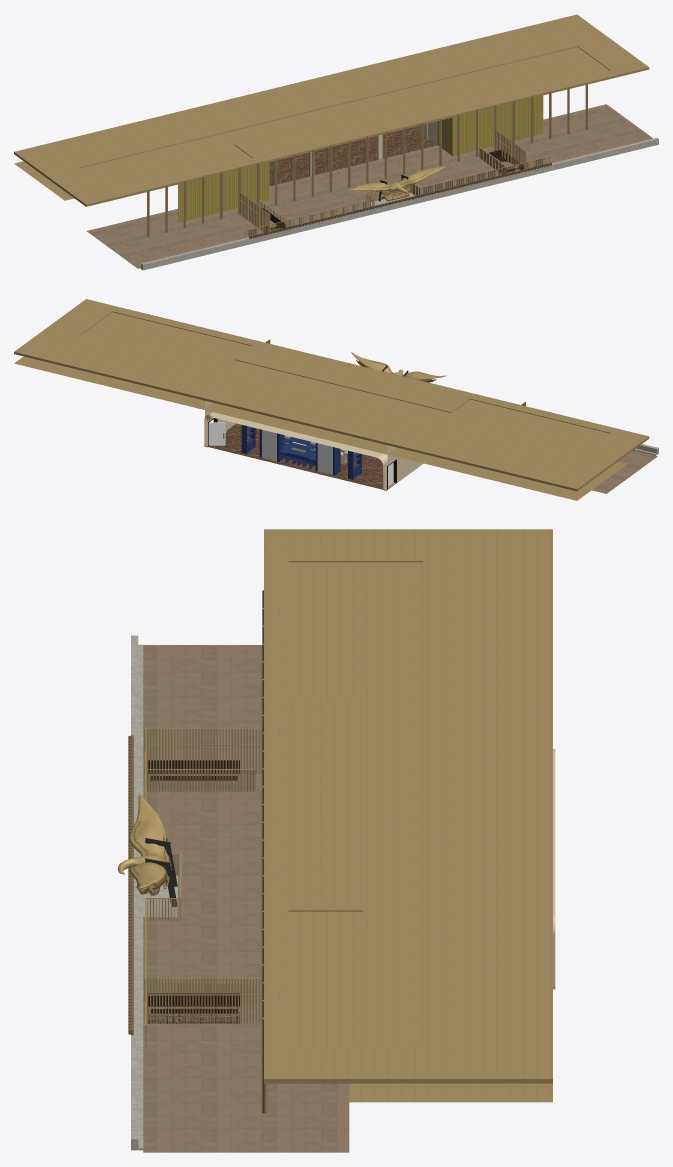
Rendered from Chancery Rosewood_EagleBar_V1.glb.
3 views of the same model, one above another, from view 1: azimuth 30°, elevation 25°; view 2: azimuth 150°, elevation 25°; view 3: azimuth 270°, elevation 25° (orthographic). The views are drawn at different scales.
Visible parts, largest first — view 1: EagleBarMerge; view 2: EagleBarMerge; view 3: EagleBarMerge.
Boxes of the visible parts, x1,y1,x2,y2 form: EagleBarMerge: (14,14,658,270); EagleBarMerge: (14,299,658,500); EagleBarMerge: (117,529,555,1152).
Bounding box in the file's own units: 52.4 × 4.3 × 17.63.
Materials: 17 (8 with a texture image).
